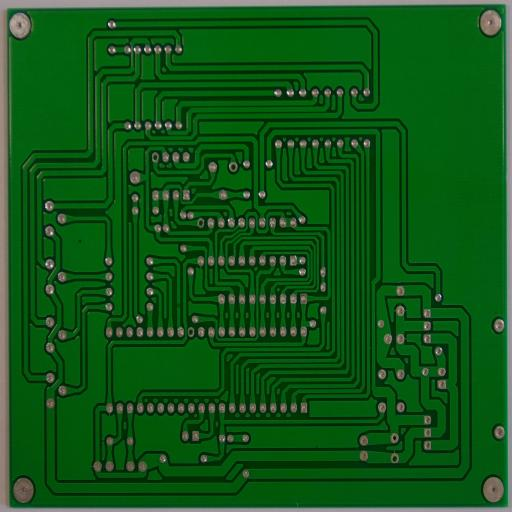missing_hole: (228, 161, 238, 174), (390, 432, 400, 445), (390, 452, 400, 464), (151, 152, 160, 163), (187, 326, 195, 338), (197, 217, 205, 228)
